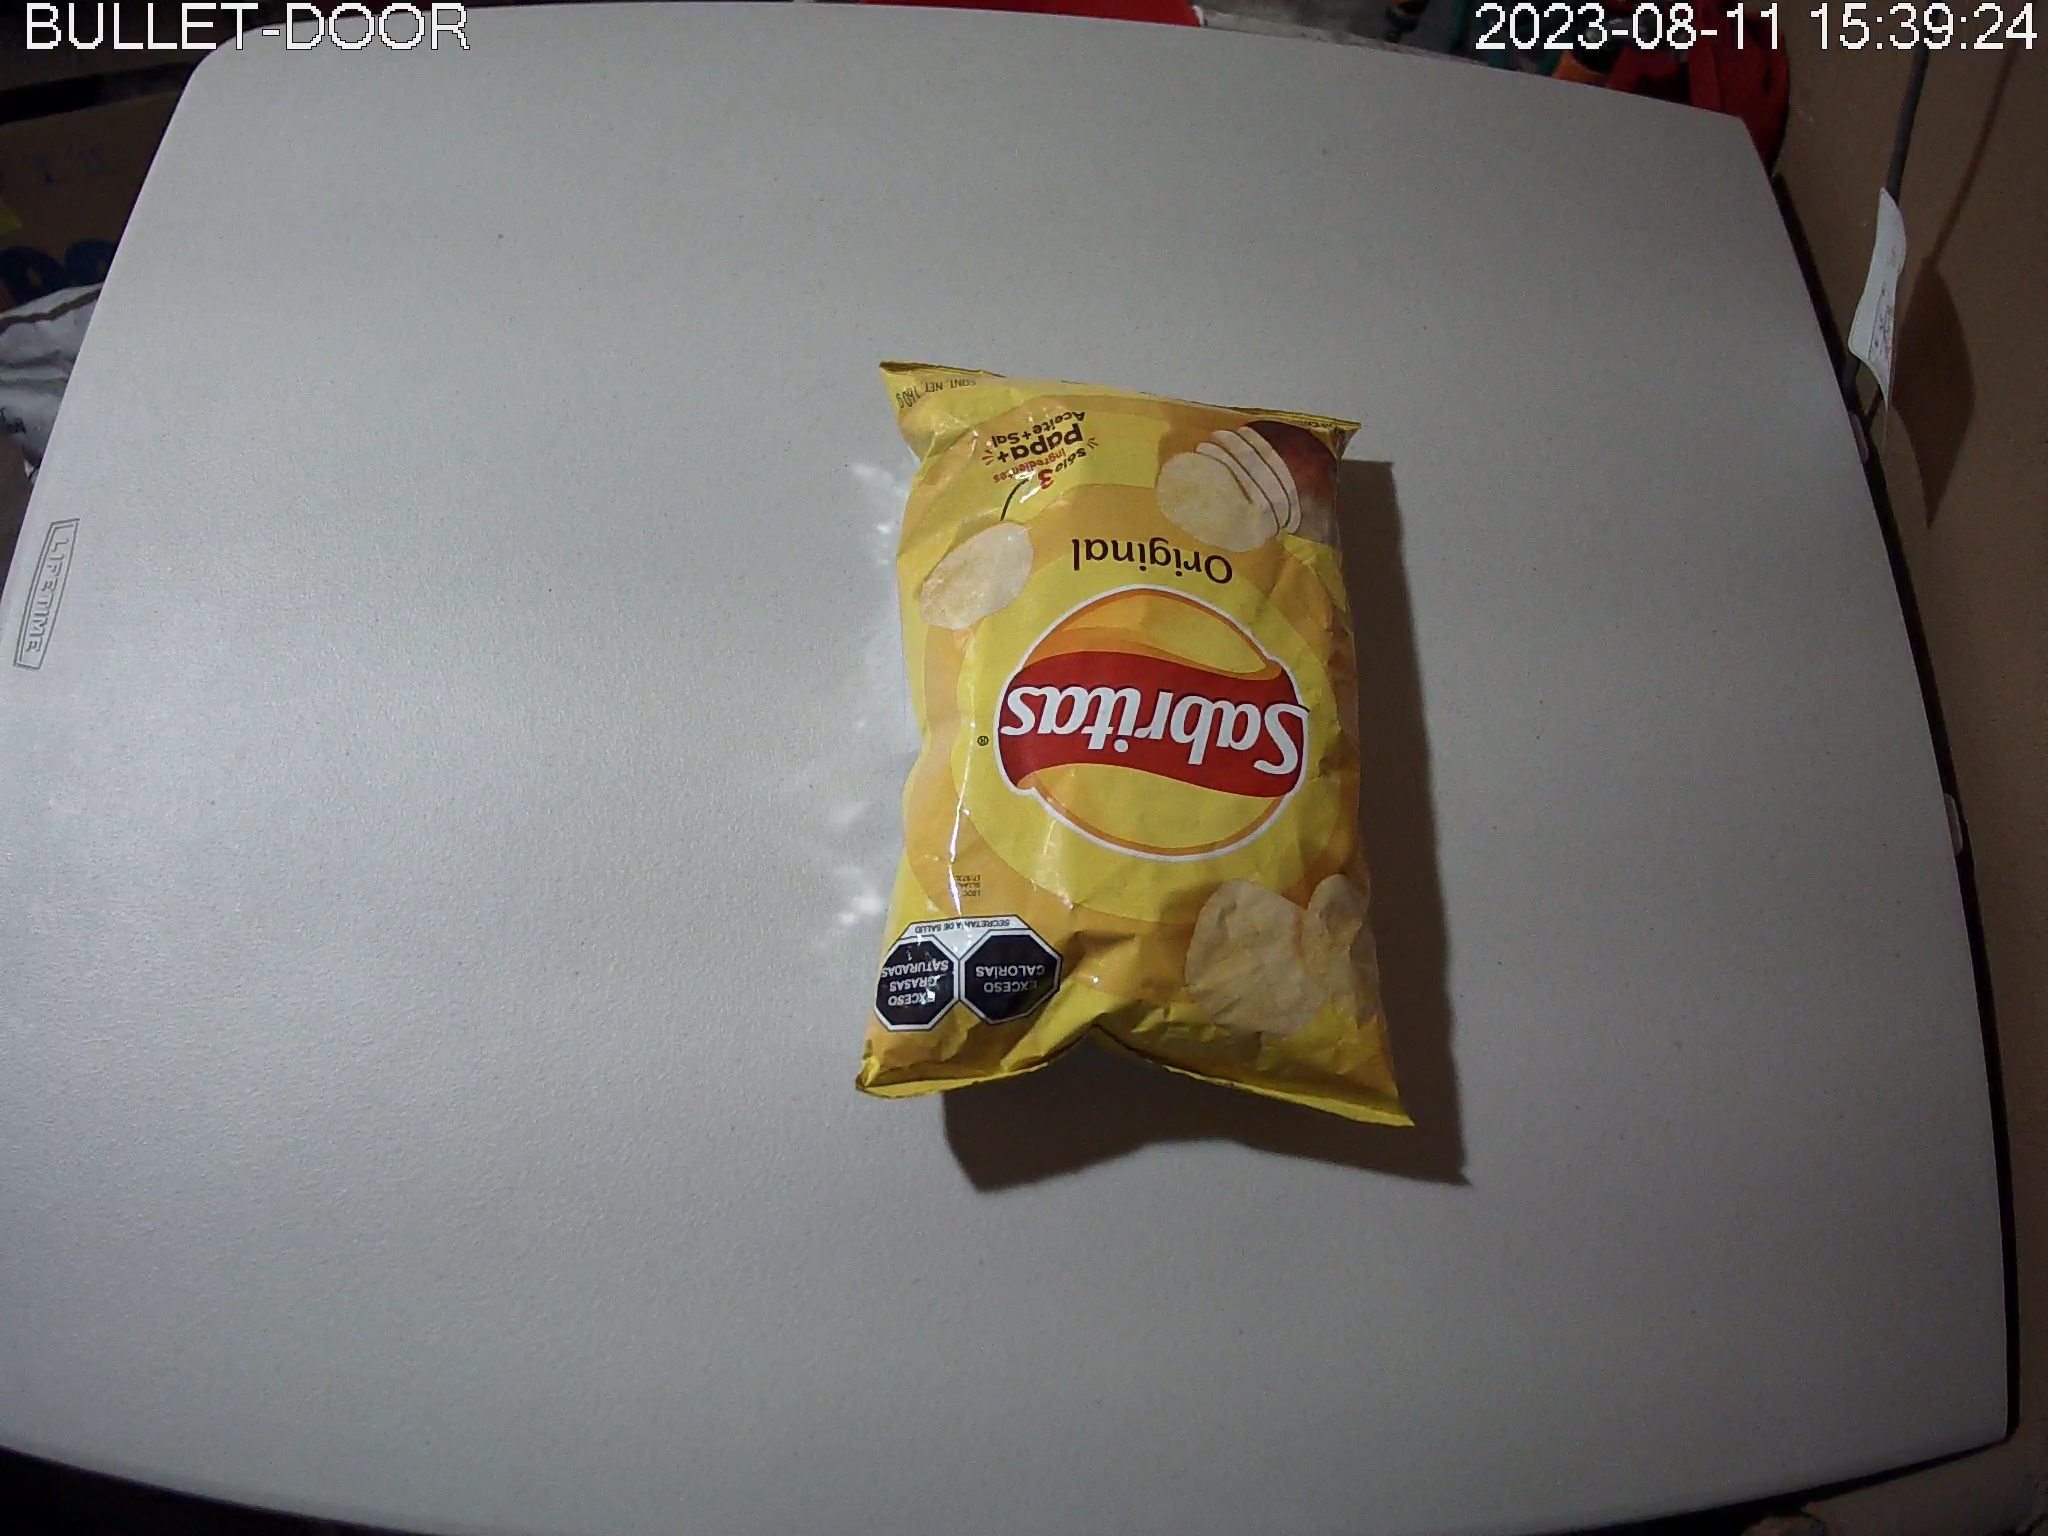Sabritas_160_F: (856, 358, 1421, 1134)
